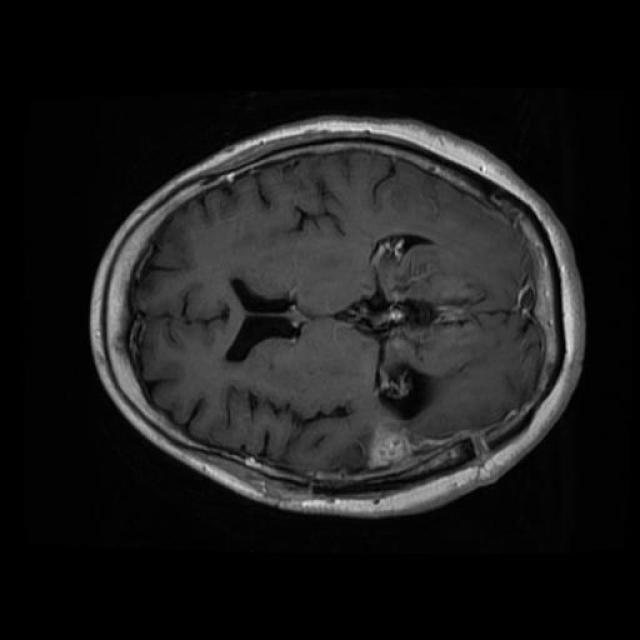Glioma: (288, 424, 480, 499)
